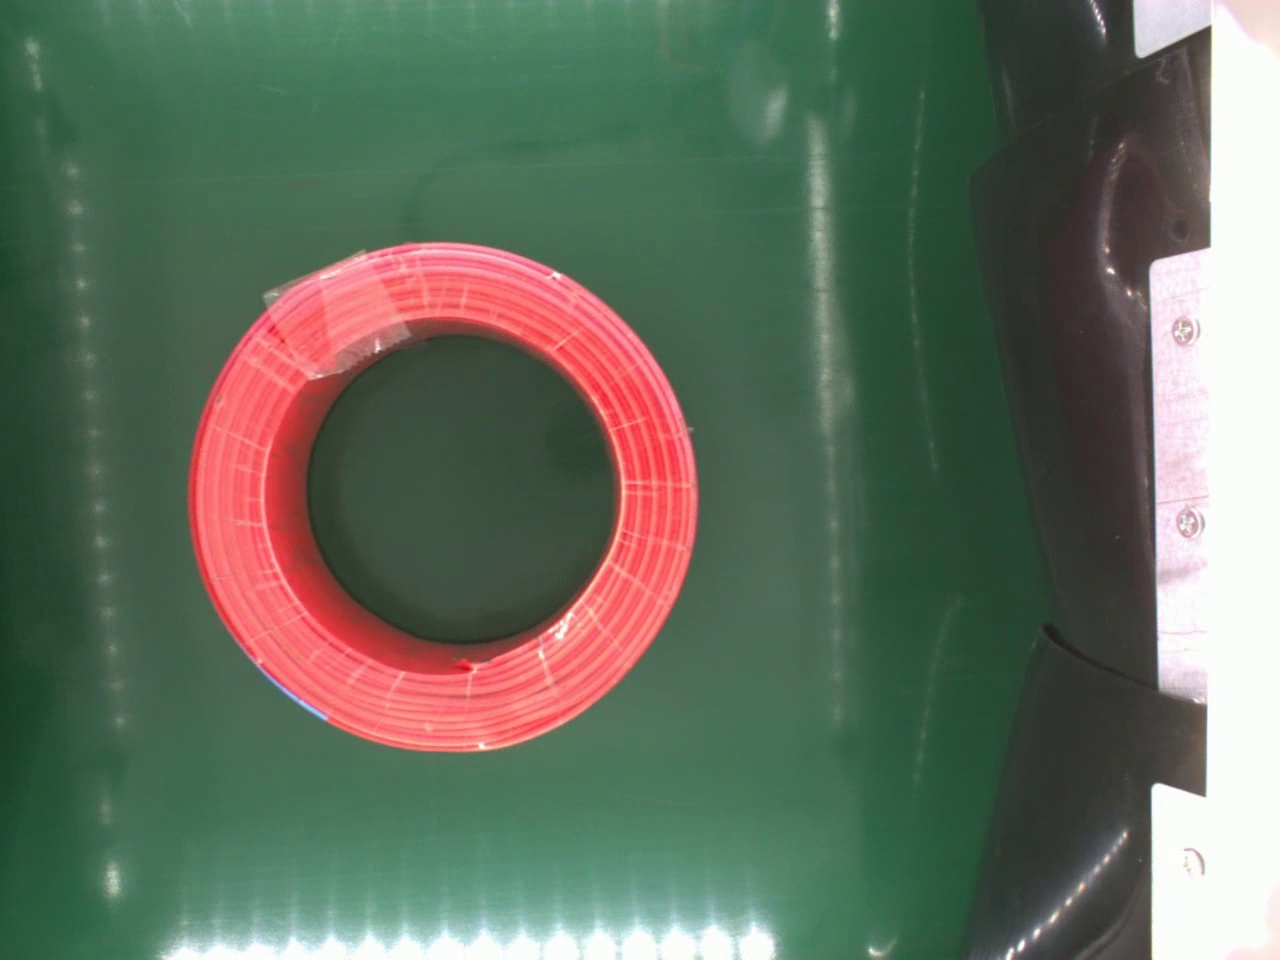red: (182, 236, 702, 756)
